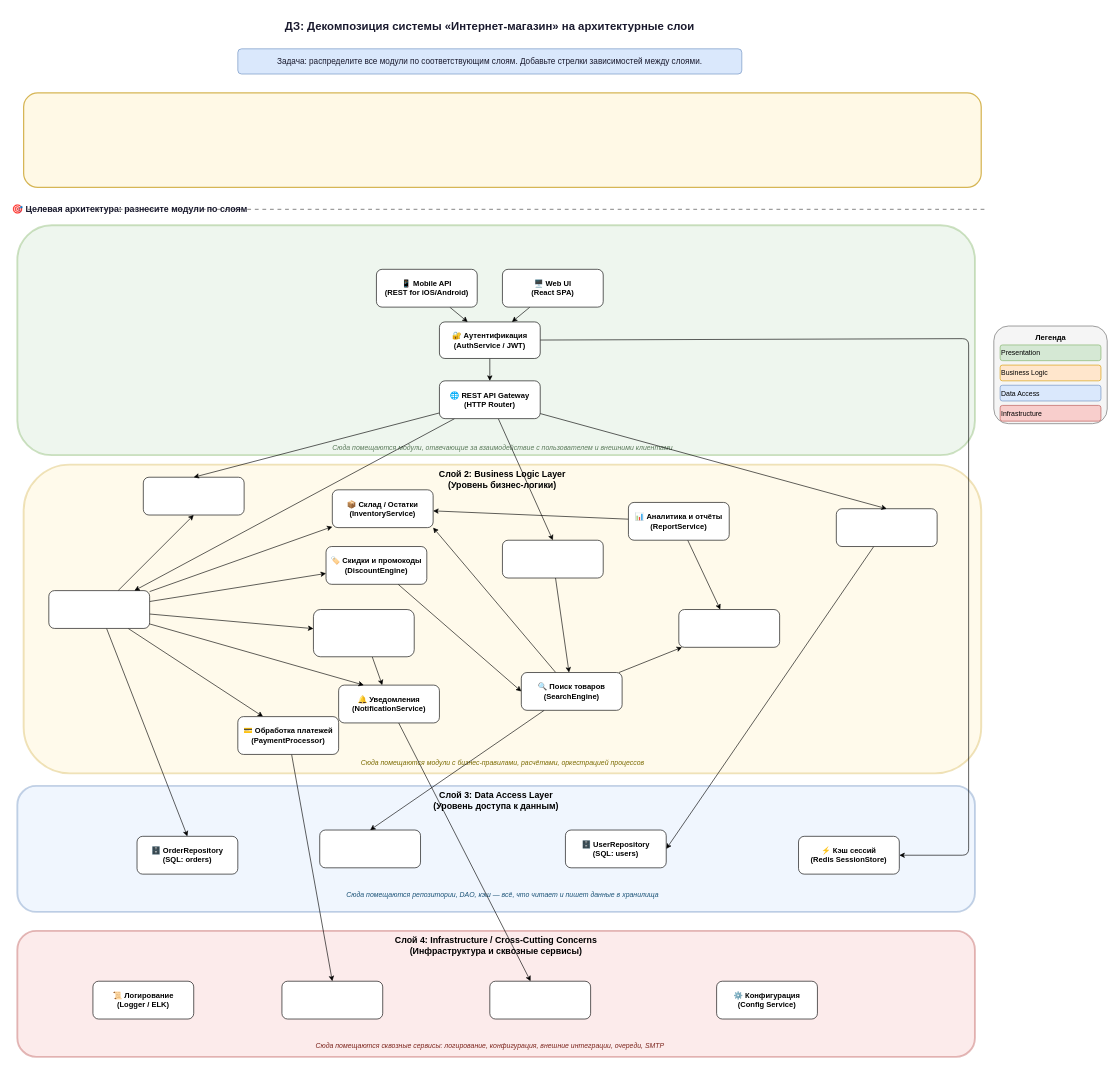
This 1118x1068 diagram has some shape labels left out. Here are the shapes that lost their labels. From the top down, the box of each, then its label:
(23, 92, 982, 188): 📦 Модули системы (нераспределённые)
(16, 224, 976, 456): Слой 1: Presentation Layer (Уровень представления)
(143, 477, 244, 515): 🛒 Корзина покупок (CartService)
(836, 508, 937, 547): 👤 Управление пользователями (UserMgr)
(502, 540, 603, 578): 📋 Каталог товаров (CatalogController)
(48, 590, 150, 628): 📝 Оформление заказа (OrderManager)
(678, 609, 780, 647): ⭐ Отзывы и рейтинги (ReviewService)
(313, 609, 414, 657): 🚚 Доставка (ShippingService)
(319, 829, 421, 868): 🗄️ ProductRepository (SQL: products)
(281, 981, 383, 1019): 🏦 Платёжный шлюз (Stripe/ЮKassa Client)
(489, 981, 591, 1019): 📧 Email-рассылка (SMTP Client)
